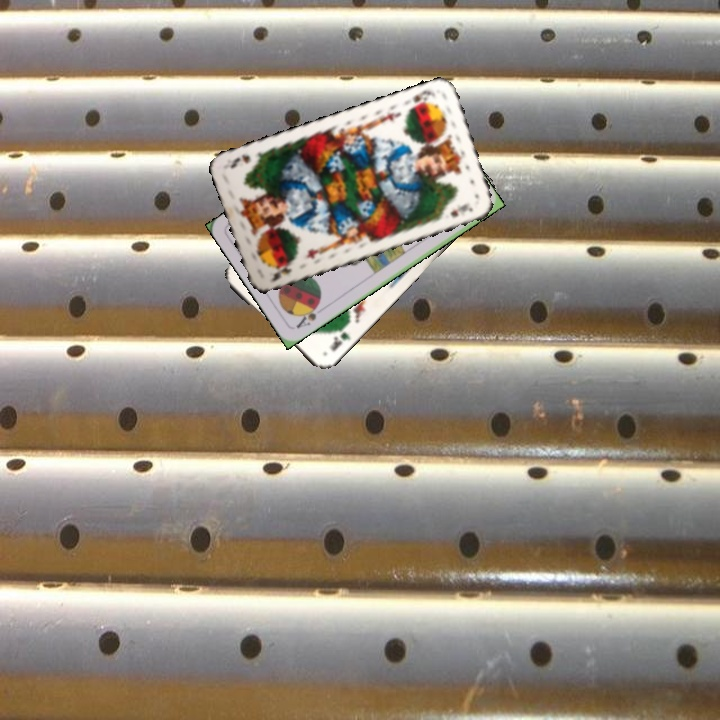GK: (326, 322, 353, 354)
SA: (292, 299, 323, 331)
SK: (404, 86, 438, 112), (266, 260, 295, 285)
